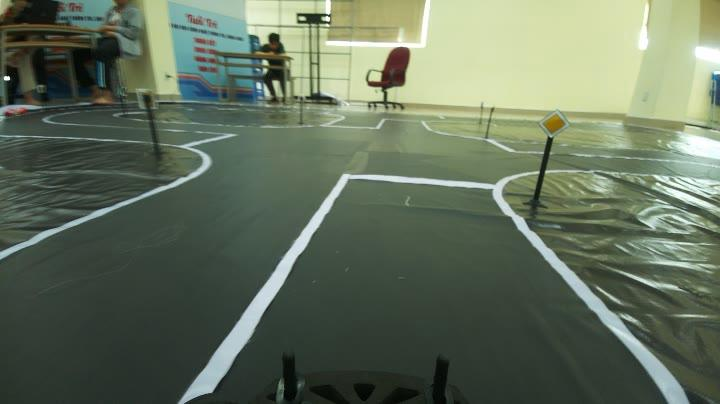priority: (531, 106, 573, 142)
